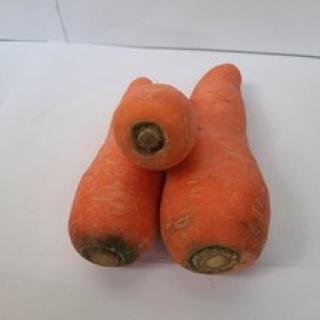carrot: (159, 60, 284, 274), (69, 75, 155, 268), (108, 80, 198, 172)
